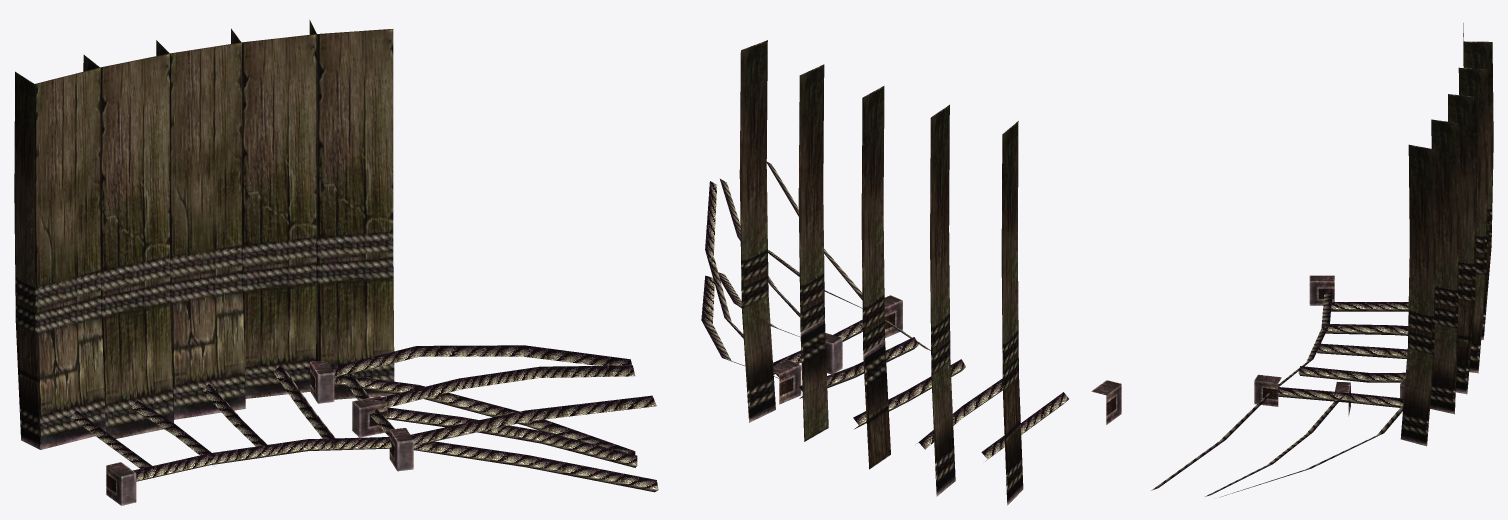
The picture shows the model from 3 angles, left to right: view 1: azimuth 30°, elevation 25°; view 2: azimuth 150°, elevation 25°; view 3: azimuth 270°, elevation 25°; orthographic projection. The views are drawn at different scales.
Parts seen in each view (by area): view 1: model_Object89; view 2: model_Object89; view 3: model_Object89.
Part boxes in pixels (<box>): model_Object89: <box>14,20,658,505</box>; model_Object89: <box>701,40,1121,505</box>; model_Object89: <box>1151,23,1493,497</box>.
Bounding box in the file's own units: 5.11 × 4.05 × 4.05.
2 materials, 2 textured.
